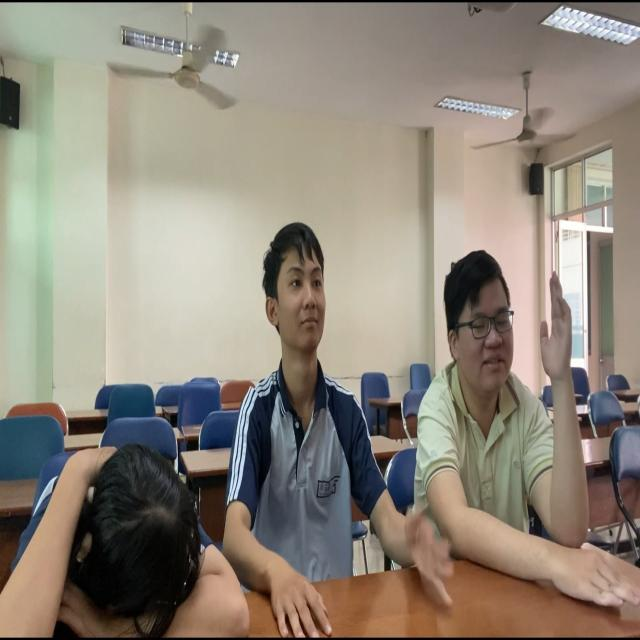raise_hand: (417, 252, 590, 630)
sleep: (1, 440, 214, 640)
